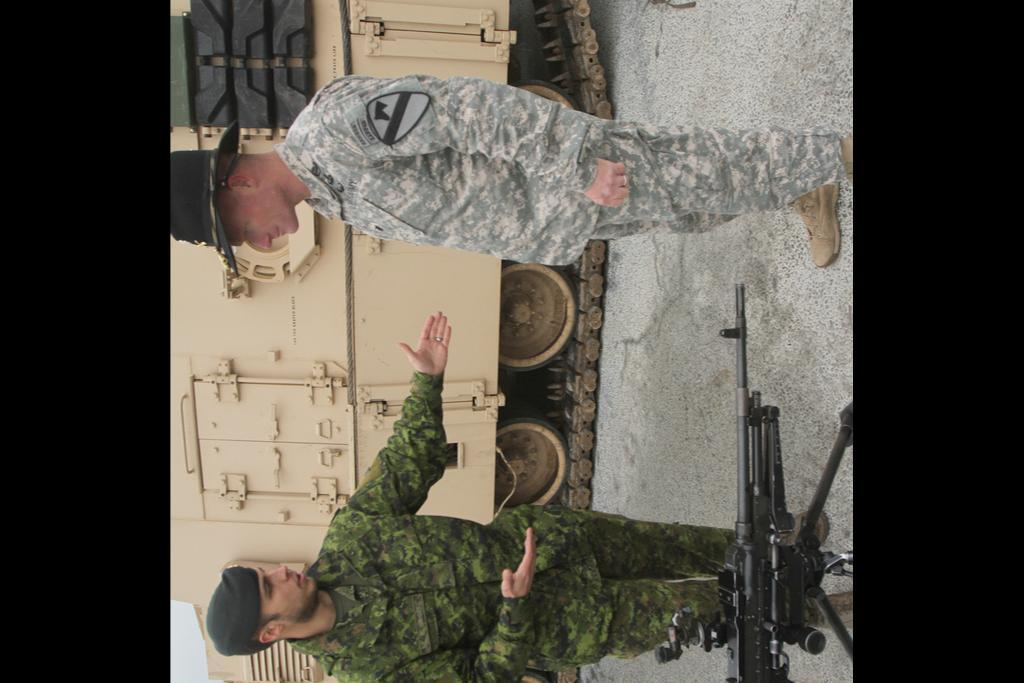gun: (710, 280, 853, 683)
